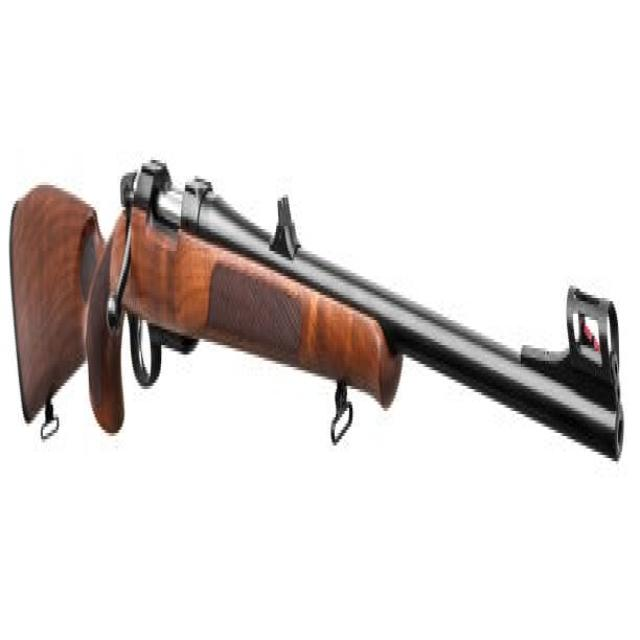rifle: (9, 152, 631, 472)
